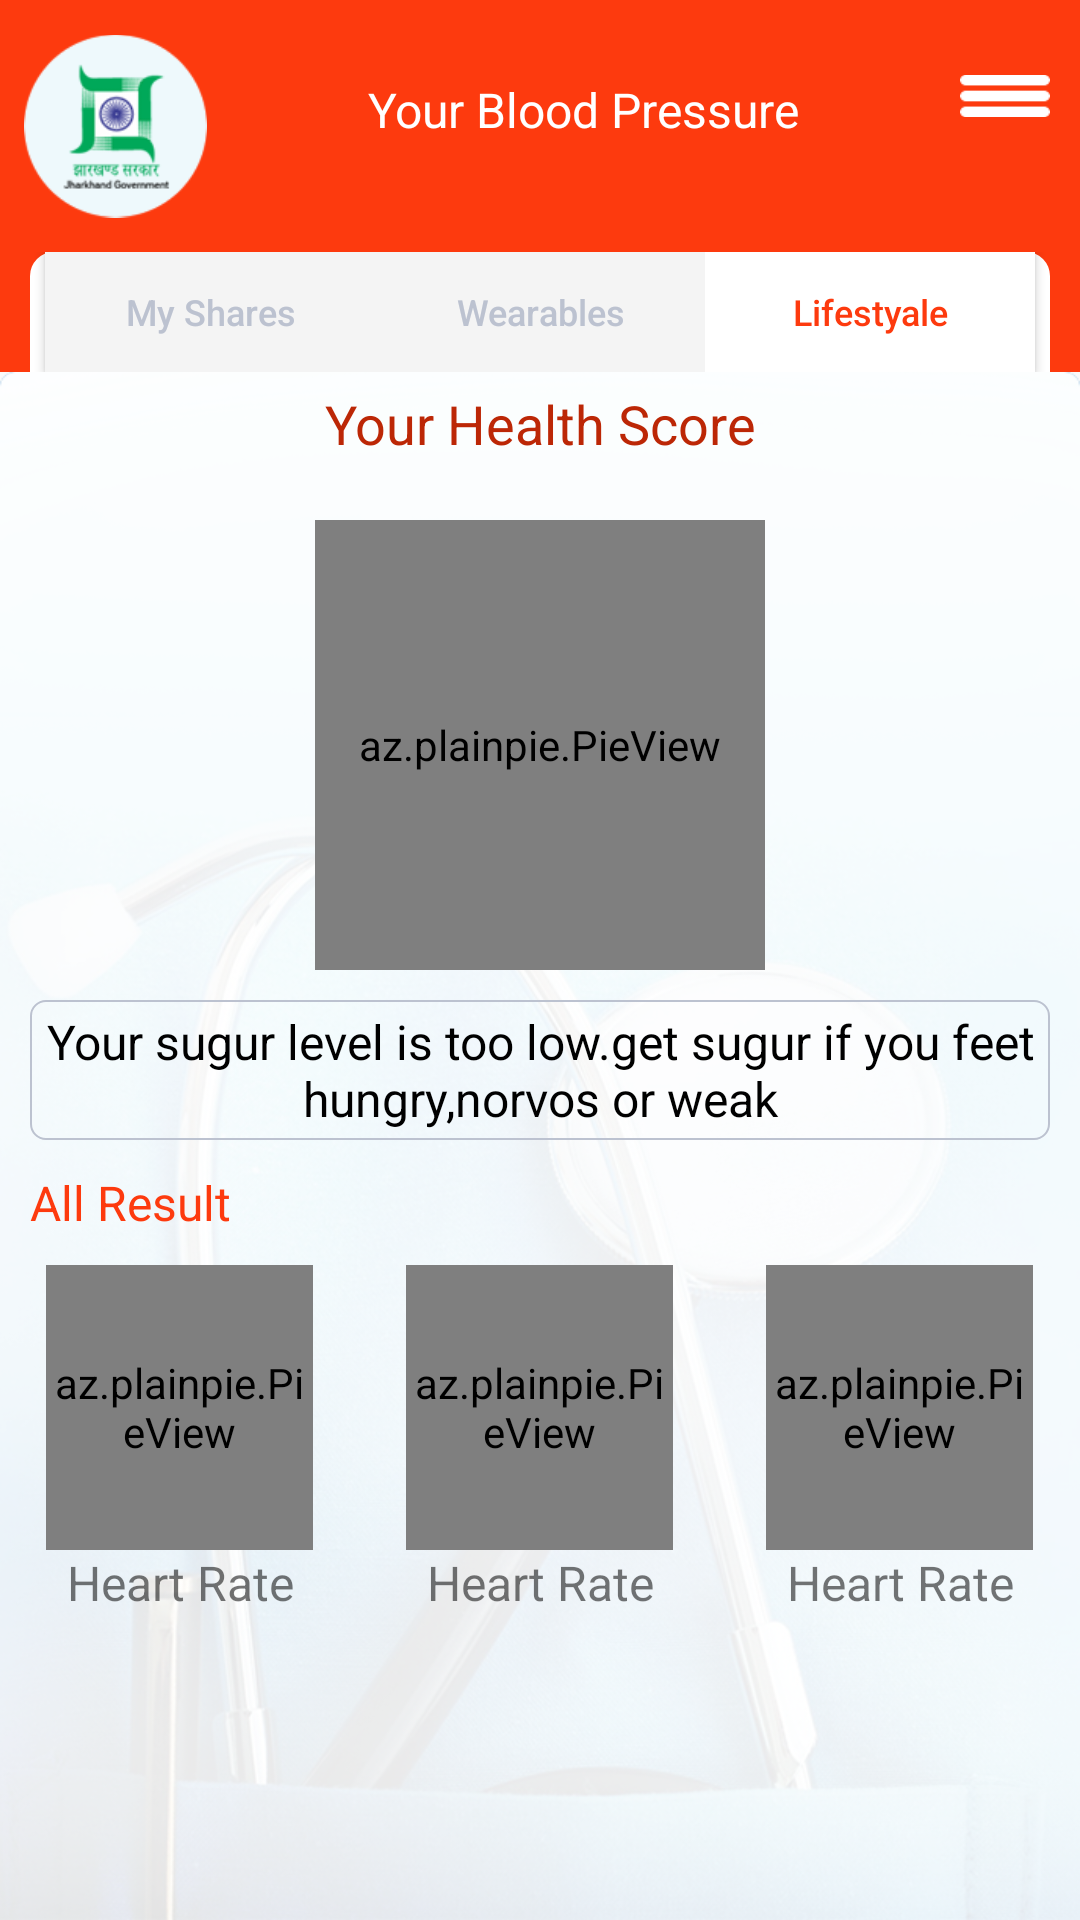

Where icons sit on this 1080 x 1920 app screen, as (x1, y1, x2, y2):
menu: (960, 75, 1050, 117)
